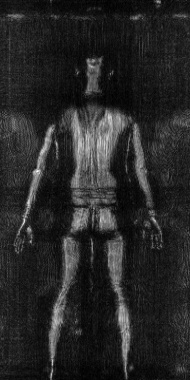gun: (70, 297, 85, 341)
